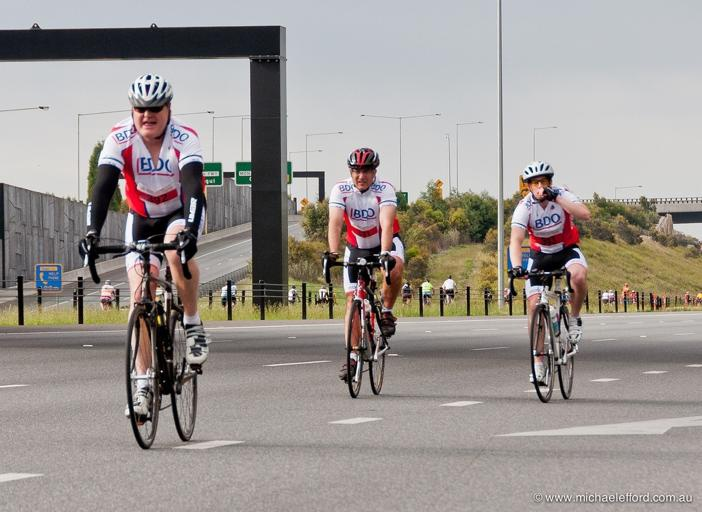non-vehicle: (79, 230, 202, 449), (320, 248, 393, 398), (507, 266, 581, 403)
